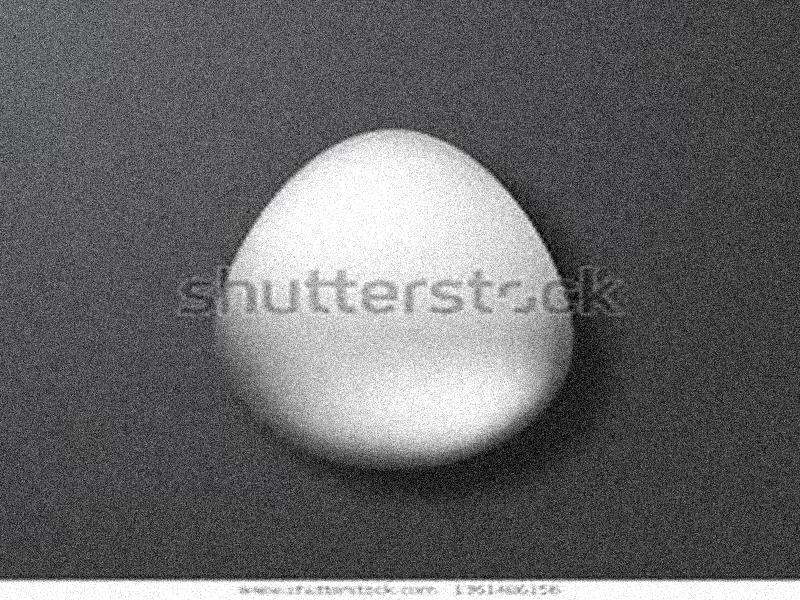Eggs: (214, 126, 572, 466)
